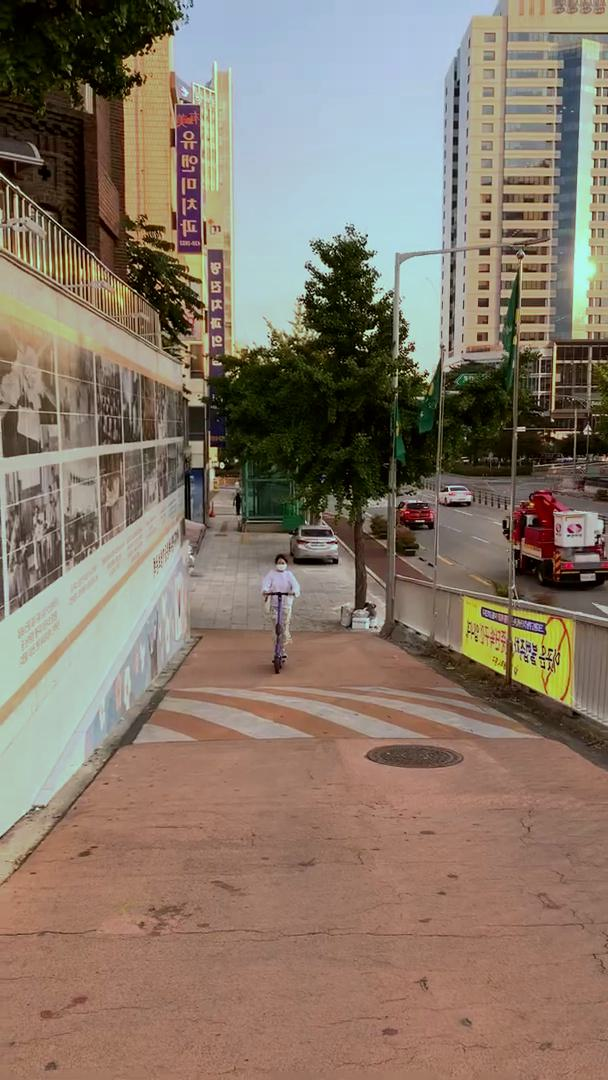nonhelmet: (252, 551, 302, 677)
